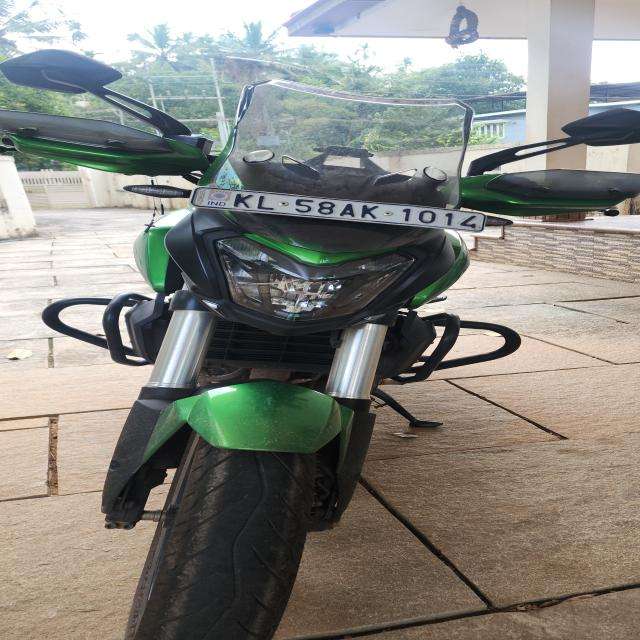headlight: (209, 234, 417, 323)
